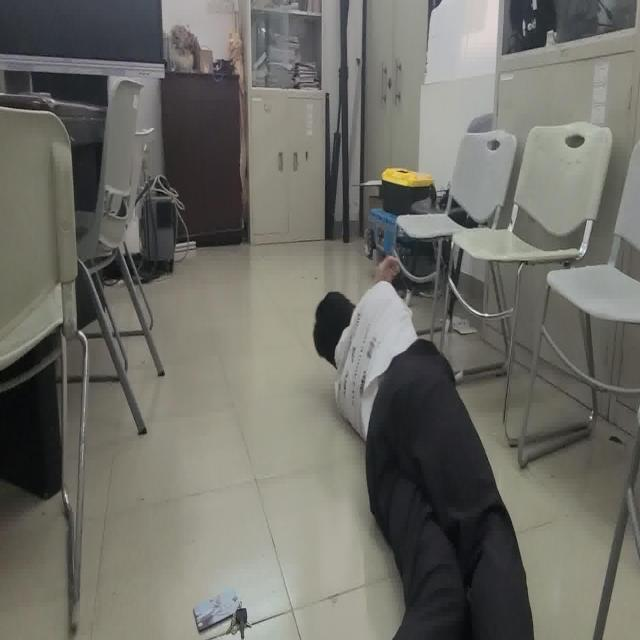fall: (308, 252, 536, 640)
